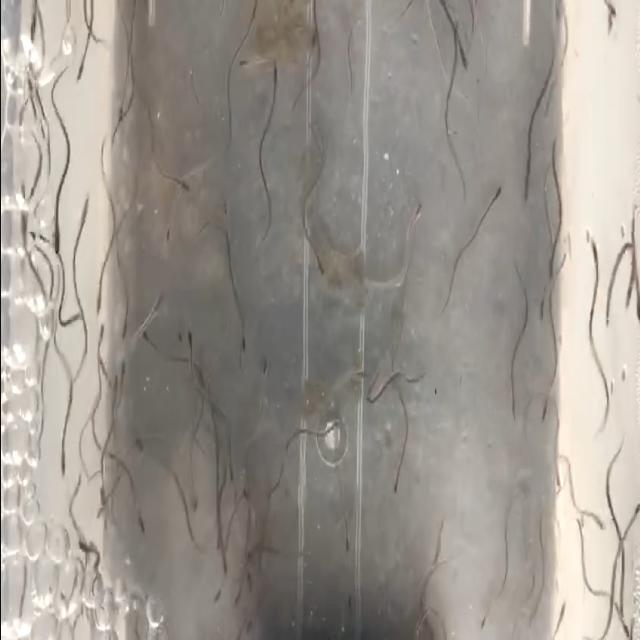active_glass_eel: (404, 197, 426, 244), (584, 228, 604, 278), (544, 241, 562, 289), (505, 386, 524, 428), (486, 178, 504, 218), (552, 592, 570, 630), (520, 160, 534, 204), (258, 348, 270, 396), (458, 30, 470, 76), (344, 588, 356, 634), (390, 451, 402, 496), (351, 368, 369, 398), (626, 492, 640, 530), (535, 294, 549, 332), (538, 378, 550, 422), (234, 51, 254, 77), (478, 604, 493, 636), (340, 518, 352, 558), (132, 428, 148, 458), (52, 218, 64, 258), (236, 326, 250, 360), (268, 58, 282, 92), (246, 0, 260, 34), (590, 509, 608, 535), (149, 286, 167, 312), (612, 620, 635, 640), (602, 0, 616, 32), (312, 248, 326, 280), (211, 580, 225, 612), (162, 214, 174, 250), (184, 328, 198, 358), (75, 53, 86, 89), (133, 508, 147, 536), (96, 321, 106, 360), (142, 330, 158, 354), (94, 279, 104, 317), (633, 286, 640, 338), (614, 590, 628, 616), (58, 443, 68, 479), (115, 100, 125, 136), (552, 458, 561, 496), (117, 316, 129, 344), (77, 542, 93, 562), (117, 360, 126, 393), (174, 178, 190, 195)
